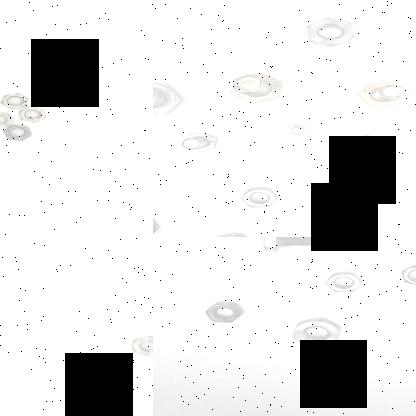Bolts: (221, 73, 289, 107), (356, 79, 408, 109), (256, 237, 338, 254), (340, 134, 388, 162), (153, 70, 181, 117), (176, 130, 220, 154), (275, 119, 311, 139)
NUTS: (288, 311, 346, 353), (302, 16, 360, 53), (235, 180, 281, 212), (320, 267, 372, 295), (314, 174, 354, 210), (202, 296, 248, 326), (390, 259, 416, 288), (0, 123, 34, 142), (125, 335, 153, 357), (16, 106, 48, 124), (0, 91, 31, 109), (153, 212, 168, 237), (0, 110, 13, 128)
